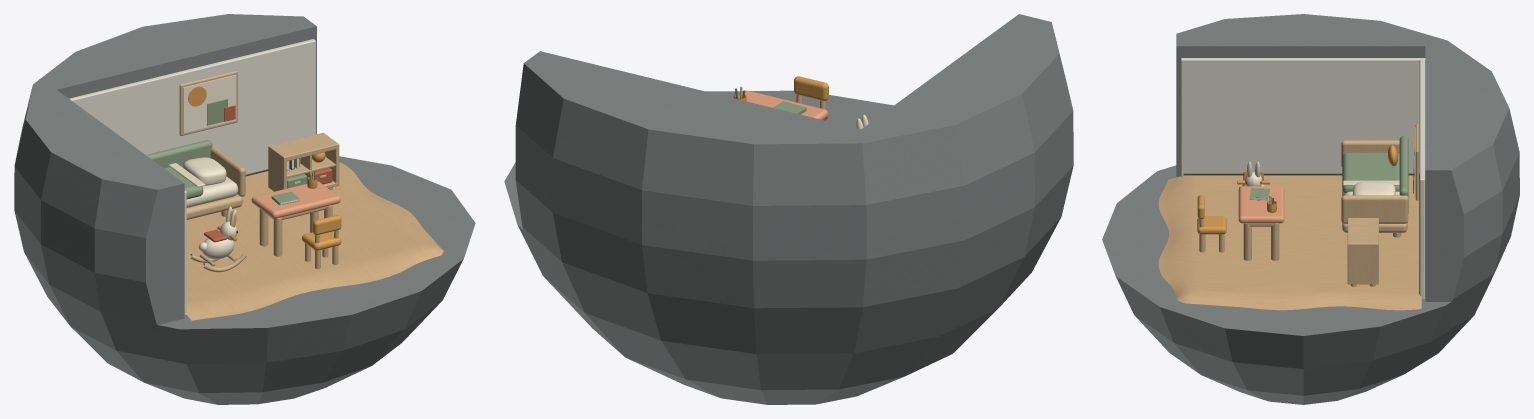
Rendered from roomlet-growing-original.glb.
3 views of the same model, side by side, from view 1: azimuth 30°, elevation 25°; view 2: azimuth 150°, elevation 25°; view 3: azimuth 270°, elevation 25° (orthographic). The views are drawn at different scales.
Parts seen in each view (by area): view 1: Shell_Stone_LowPoly, Floor_Rectangular_Oak, Wall_Back, Art_Quiet_Field, Desk_Top, Cubby_Top, Daybed_Soft_Back, Daybed_Pillow, Daybed_Mattress, Art_Frame, Daybed_Rounded_End_1, Daybed_Oak_Frame (+5 smaller); view 2: Shell_Stone_LowPoly, Desk_Top, Chair_Back; view 3: Shell_Stone_LowPoly, Wall_Left, Floor_Rectangular_Oak, Daybed_Rounded_End_1, Daybed_Linen_Duvet, Desk_Top, Wall_Back, Cubby_Right, Cubby_Top, Daybed_Rounded_End_0, Daybed_Soft_Back, Daybed_Pillow (+2 smaller).
Part boxes in pixels (bbox=[...]): Shell_Stone_LowPoly: bbox=[14, 14, 475, 404]; Floor_Rectangular_Oak: bbox=[185, 162, 443, 320]; Wall_Back: bbox=[69, 39, 315, 176]; Art_Quiet_Field: bbox=[183, 75, 236, 133]; Desk_Top: bbox=[251, 181, 340, 218]; Cubby_Top: bbox=[268, 132, 339, 161]; Daybed_Soft_Back: bbox=[146, 140, 212, 167]; Daybed_Pillow: bbox=[183, 157, 226, 185]; Daybed_Mattress: bbox=[186, 176, 238, 207]; Art_Frame: bbox=[179, 70, 237, 135]; Daybed_Rounded_End_1: bbox=[210, 145, 245, 196]; Daybed_Oak_Frame: bbox=[186, 194, 242, 219]; Shell_Stone_LowPoly: bbox=[504, 14, 1073, 404]; Desk_Top: bbox=[742, 90, 827, 119]; Chair_Back: bbox=[794, 76, 828, 100]; Shell_Stone_LowPoly: bbox=[1102, 14, 1519, 404]; Wall_Left: bbox=[1181, 58, 1425, 179]; Floor_Rectangular_Oak: bbox=[1158, 175, 1421, 310]; Daybed_Rounded_End_1: bbox=[1341, 195, 1408, 223]; Daybed_Linen_Duvet: bbox=[1342, 152, 1399, 193]; Desk_Top: bbox=[1238, 186, 1284, 223]; Wall_Back: bbox=[1419, 59, 1424, 299]; Cubby_Right: bbox=[1347, 247, 1378, 282]; Cubby_Top: bbox=[1347, 218, 1378, 247]; Daybed_Rounded_End_0: bbox=[1341, 140, 1399, 166]; Daybed_Soft_Back: bbox=[1399, 136, 1408, 213]; Daybed_Pillow: bbox=[1352, 181, 1395, 195].
Size of the model in its own units: 7.09 by 4.63 by 6.41.
15 materials, 6 textured.
